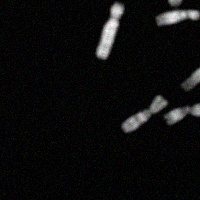chromosome: (119, 95, 166, 133), (95, 2, 124, 61), (182, 28, 200, 93), (164, 103, 200, 125), (155, 9, 200, 26), (167, 0, 182, 5)
